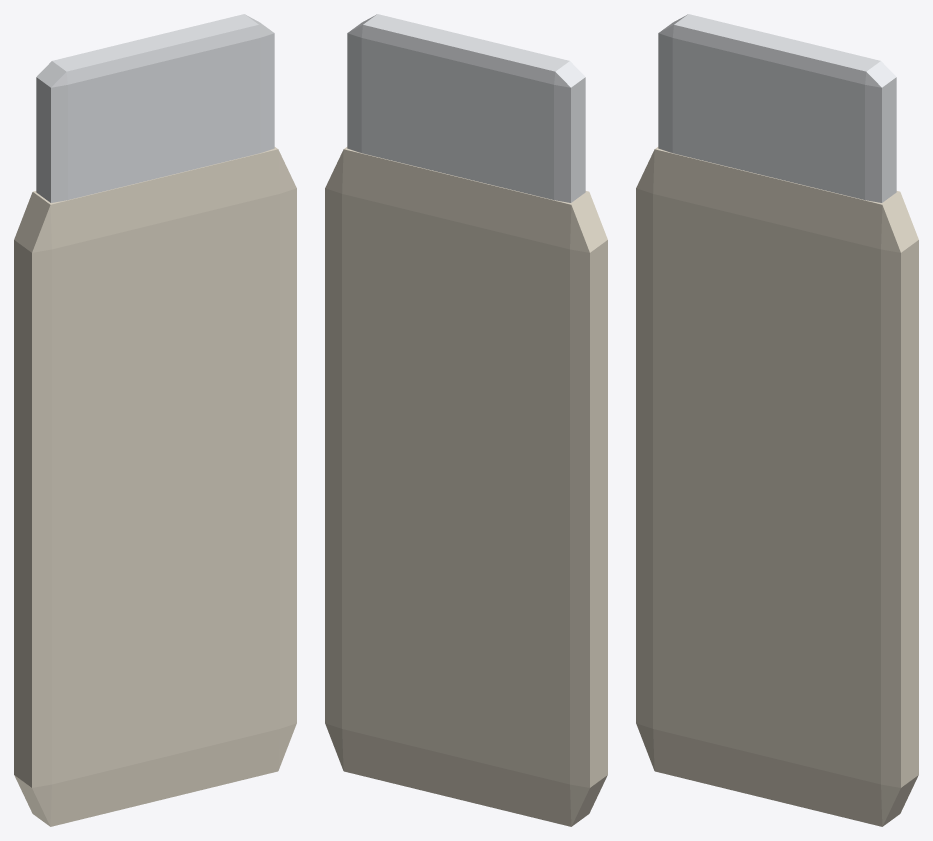
Rendered from b17_badminton_racket.glb.
The picture shows the model from 3 angles, left to right: view 1: azimuth 30°, elevation 25°; view 2: azimuth 150°, elevation 25°; view 3: azimuth 330°, elevation 25°; orthographic projection.
Visible parts, largest first — view 1: b17_badminton_racket; view 2: b17_badminton_racket; view 3: b17_badminton_racket.
Part boxes in pixels (x1,y1,x2,y2): b17_badminton_racket: (14,14,296,826); b17_badminton_racket: (325,14,607,826); b17_badminton_racket: (636,14,918,826).
Size of the model in its own units: 0.22 by 0.595 by 0.03.
